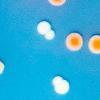orange: (63, 31, 85, 53), (85, 33, 100, 58), (45, 0, 70, 9), (0, 57, 7, 78)
white: (35, 19, 53, 37), (54, 78, 71, 97), (49, 73, 66, 88), (41, 27, 56, 42)
